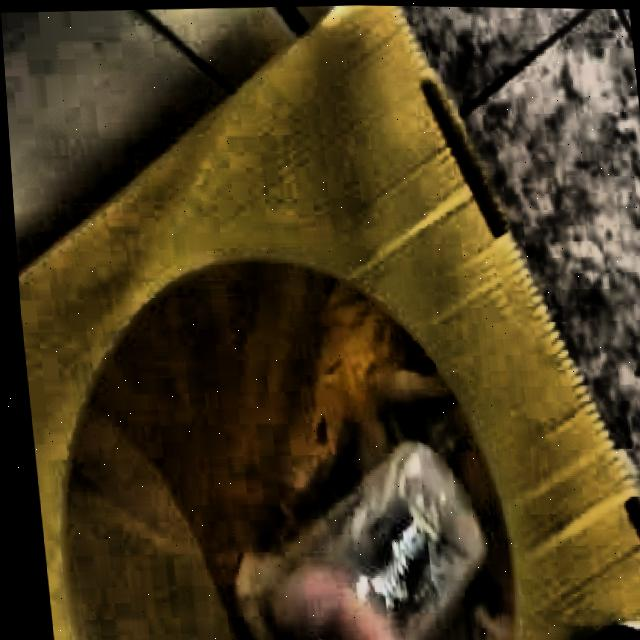plastic: (227, 440, 479, 640)
